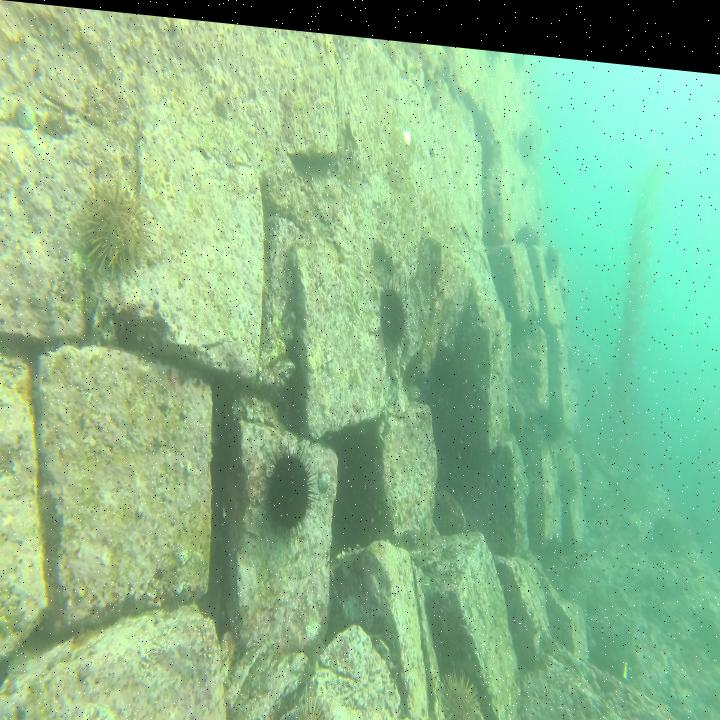echinus: (77, 171, 159, 281), (256, 426, 321, 544), (376, 263, 416, 361), (438, 652, 482, 720), (282, 671, 337, 720), (533, 390, 560, 434), (557, 451, 582, 498), (651, 497, 677, 539), (511, 209, 544, 241), (516, 112, 536, 155), (544, 226, 559, 273)
